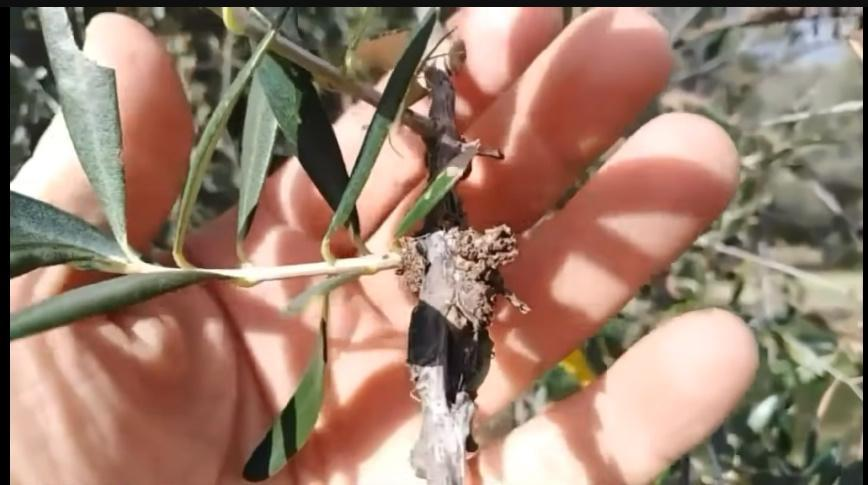Tuberculosis: (393, 168, 527, 485)
